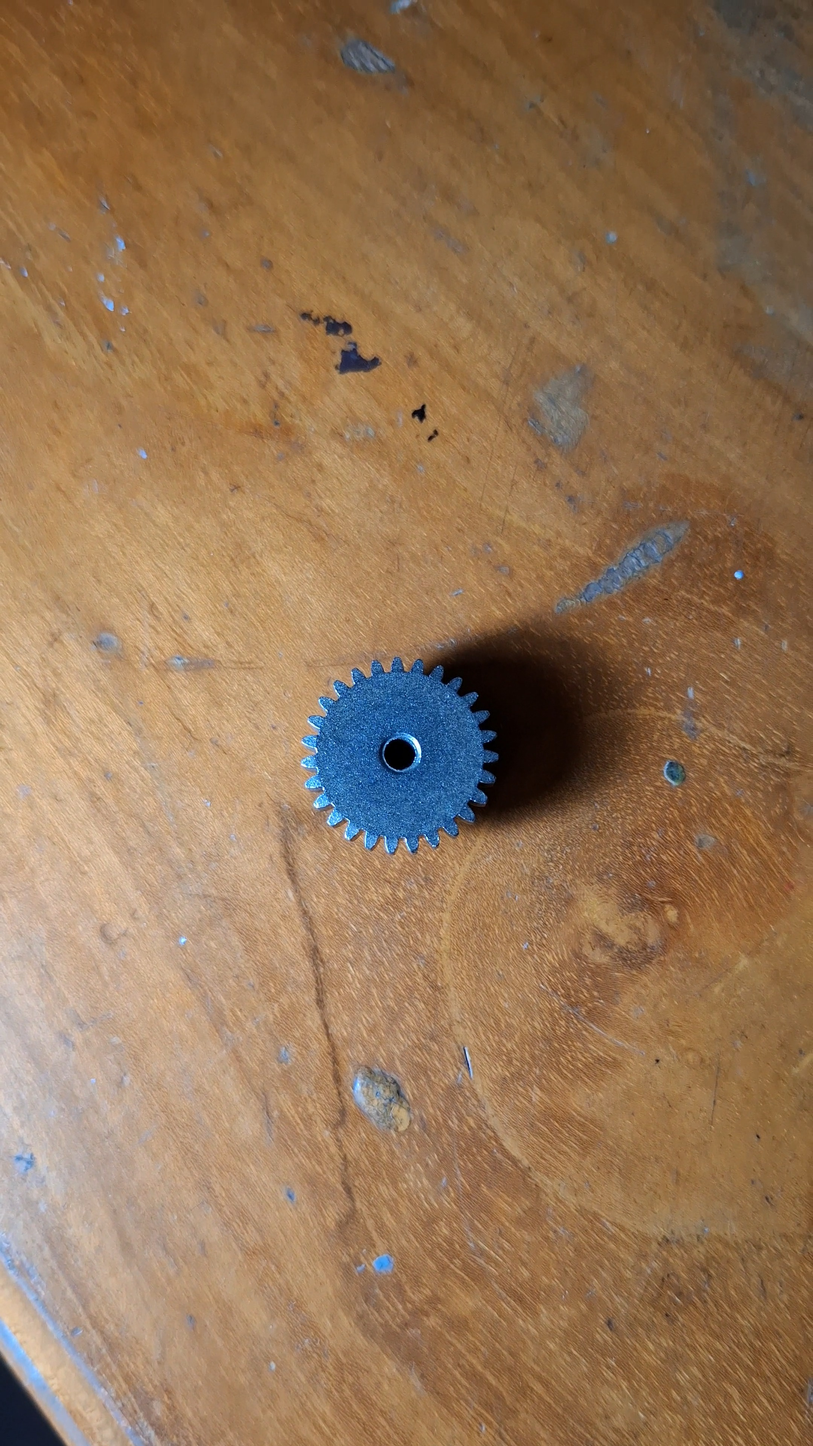spur gear: (303, 658, 497, 853)
